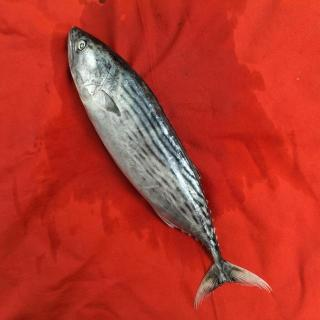Ikan: (44, 20, 274, 305)
